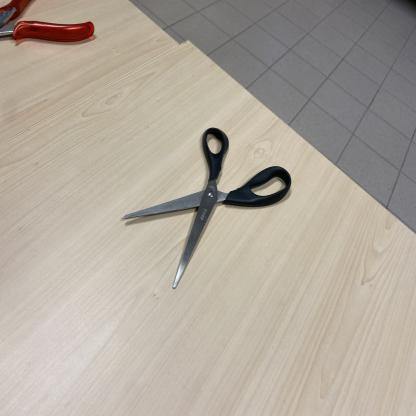scissors: (122, 129, 293, 288)
